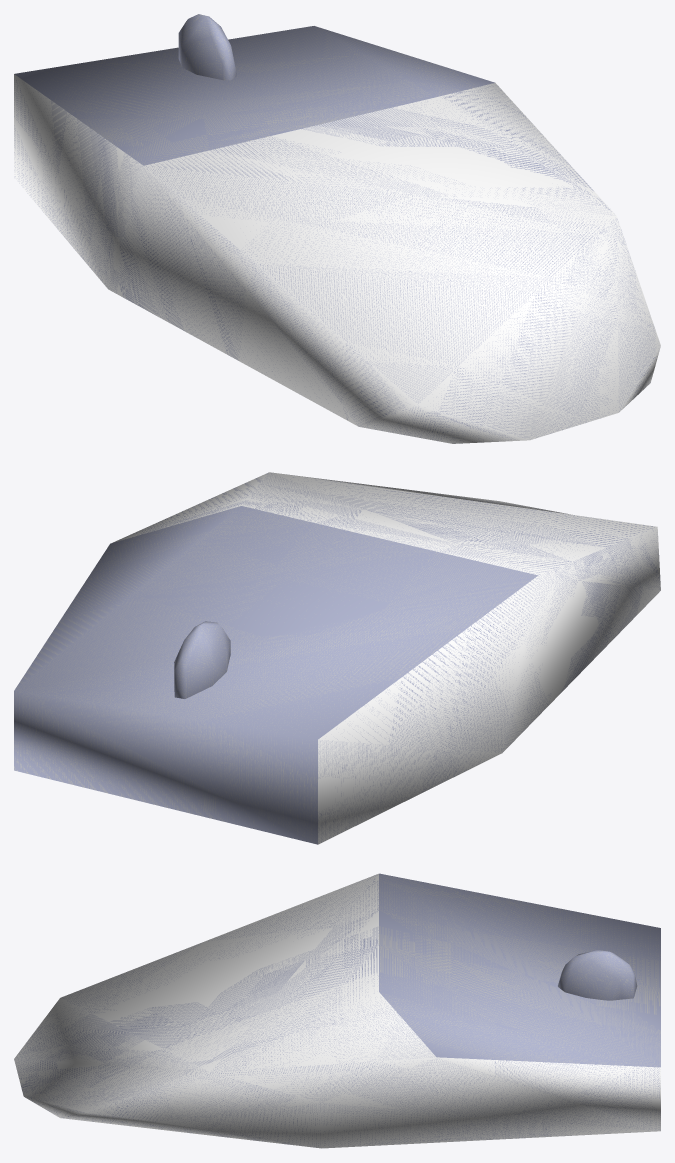
Rendered from Mouse.fbx.
3 renders of one model, top to bottom at view 1: azimuth 30°, elevation 25°; view 2: azimuth 150°, elevation 25°; view 3: azimuth 270°, elevation 25°, orthographic. The views are drawn at different scales.
Visible parts, largest first — view 1: Model; view 2: Model; view 3: Model.
Boxes of the visible parts, x1,y1,x2,y2 form: Model: (14, 14, 660, 443); Model: (14, 472, 660, 844); Model: (14, 873, 660, 1148).
Bounding box in the file's own units: 2.15 × 0.7773 × 3.7.
